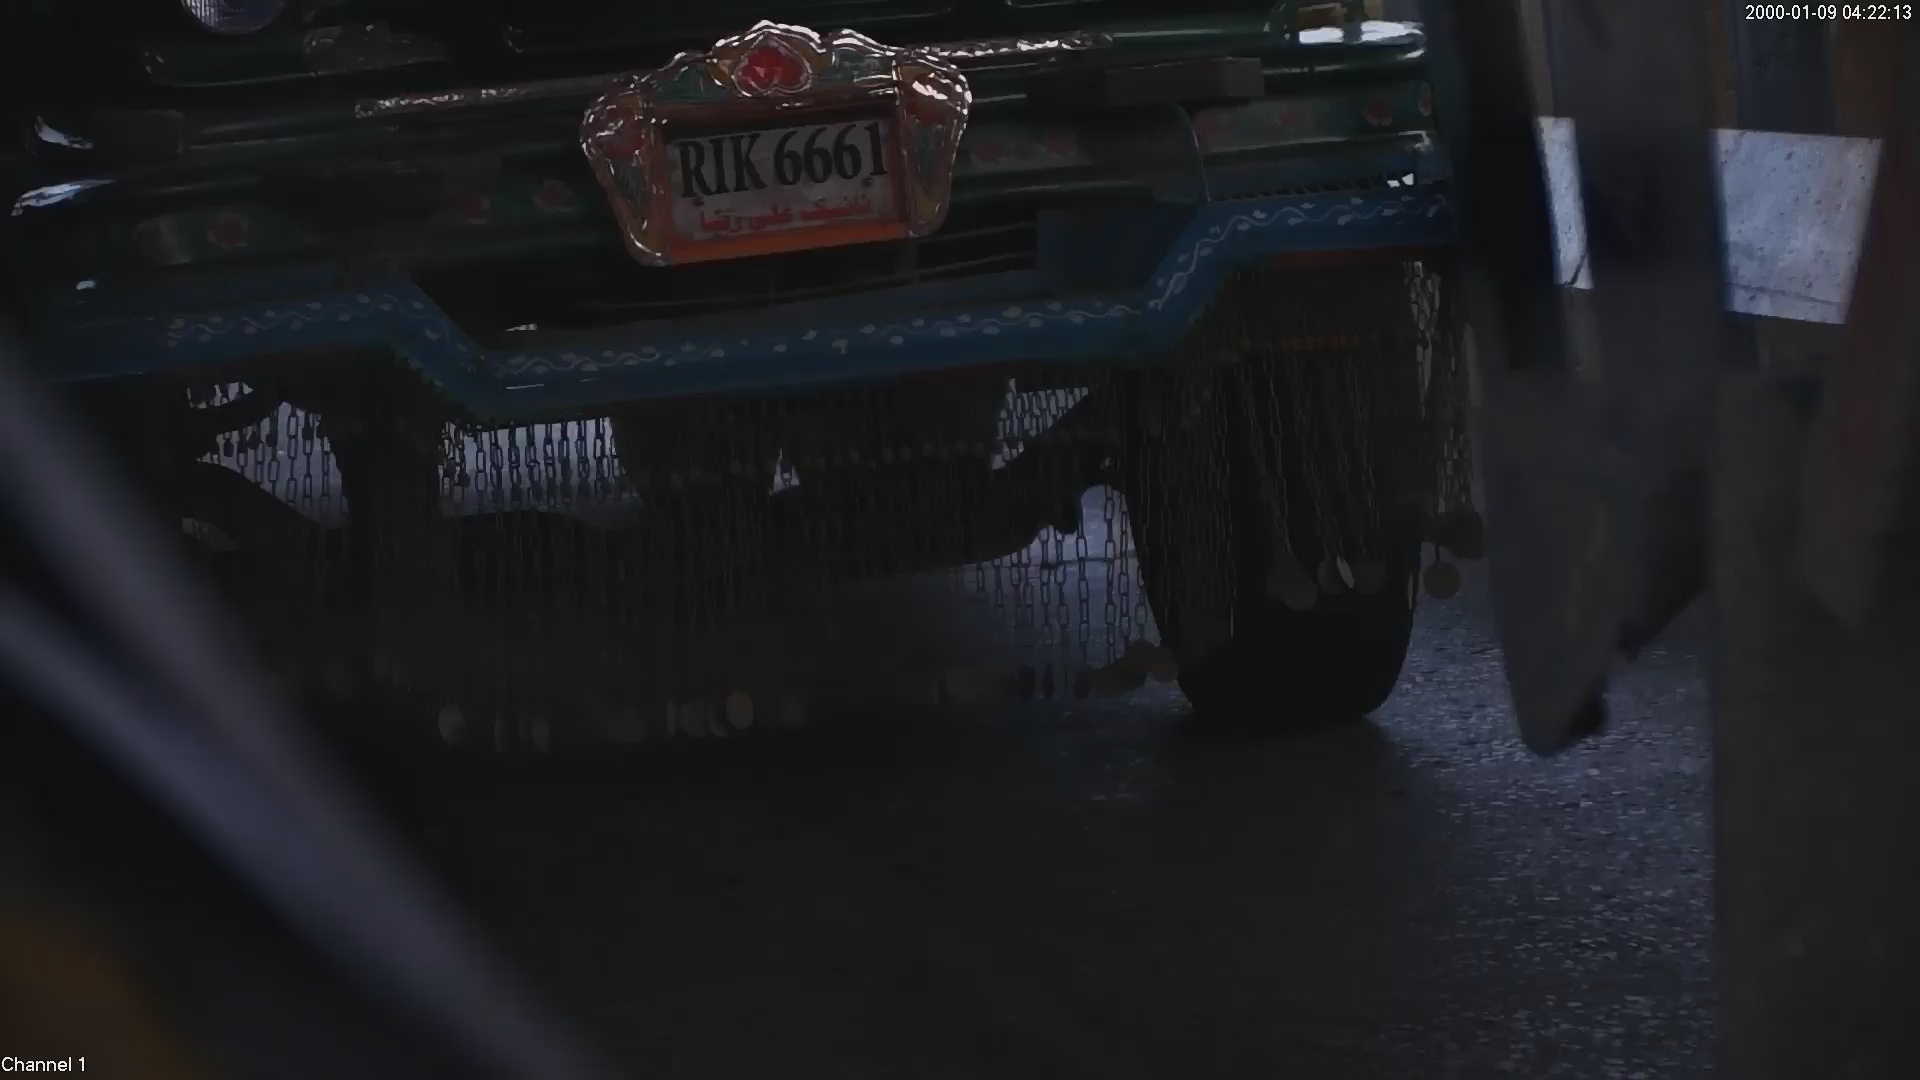Number_Plate: (628, 79, 954, 249)
